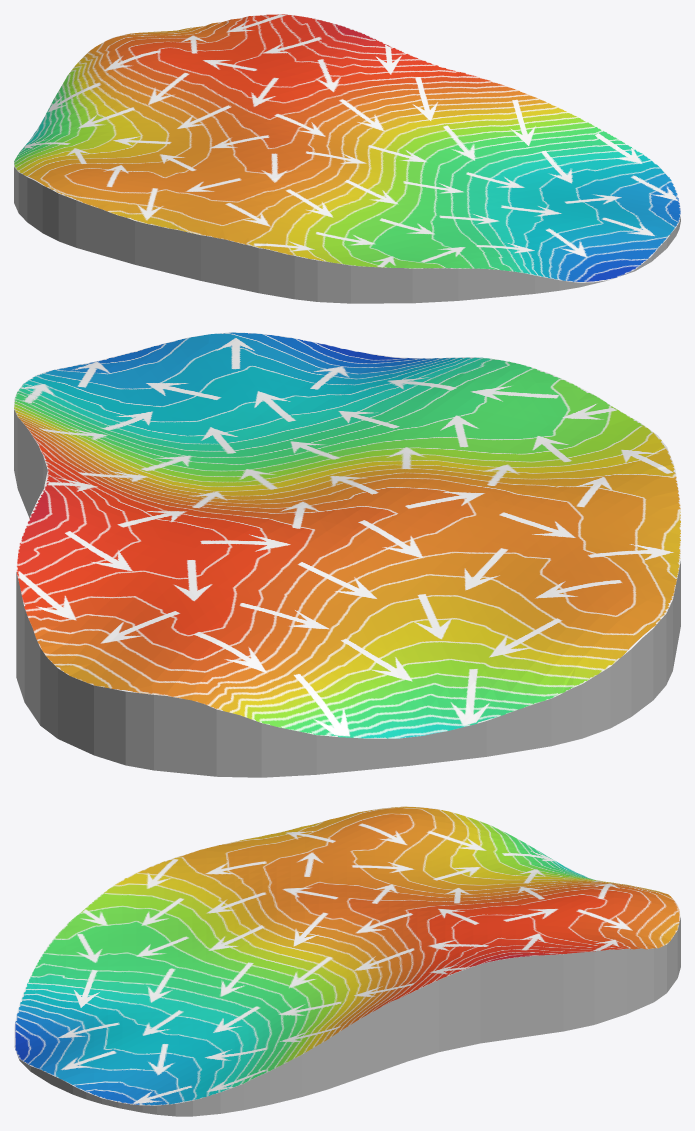
3 renders of one model, top to bottom at view 1: azimuth 30°, elevation 25°; view 2: azimuth 150°, elevation 25°; view 3: azimuth 270°, elevation 25°, orthographic. The views are drawn at different scales.
Bounding box in the file's own units: 4.17 × 0.6021 × 4.51.
2 materials, 1 textured.
